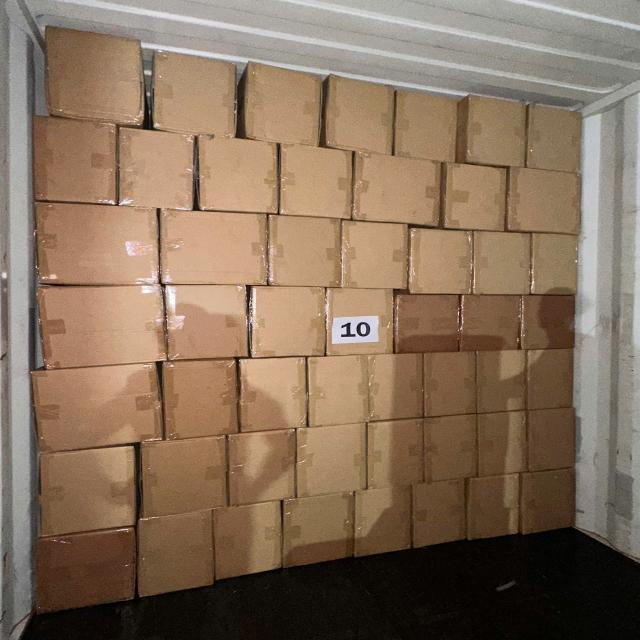Carton: (29, 364, 164, 452), (32, 201, 162, 287), (41, 281, 168, 367), (32, 440, 141, 540), (44, 19, 144, 127), (30, 525, 134, 614), (160, 208, 272, 285), (29, 115, 118, 206), (137, 437, 230, 518), (153, 50, 240, 135), (139, 513, 217, 600), (118, 126, 196, 212), (351, 152, 440, 226), (166, 282, 250, 359), (246, 65, 323, 149), (196, 136, 278, 214), (162, 357, 240, 438), (249, 286, 328, 359), (278, 143, 352, 219), (281, 494, 354, 571), (267, 214, 342, 288), (228, 429, 300, 506), (215, 504, 285, 583), (324, 78, 394, 156), (296, 422, 369, 496), (240, 356, 308, 433), (460, 94, 529, 169), (506, 169, 582, 236), (338, 222, 408, 294), (396, 90, 460, 166), (325, 290, 394, 360), (442, 164, 508, 234), (308, 352, 370, 424), (353, 486, 412, 560), (406, 230, 471, 296), (369, 419, 426, 490), (393, 297, 460, 357), (520, 467, 579, 534), (411, 481, 466, 552), (527, 103, 582, 173), (472, 232, 531, 296), (467, 472, 522, 540), (368, 352, 422, 421), (423, 413, 477, 482), (459, 298, 522, 356), (422, 351, 477, 416), (526, 406, 578, 472), (477, 347, 529, 412), (479, 408, 529, 475), (524, 293, 580, 349), (530, 233, 579, 296), (529, 345, 578, 408)
